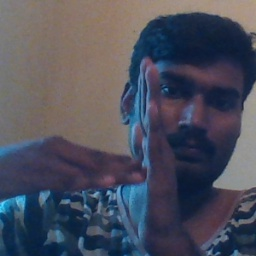Z: (54, 55, 185, 246)
